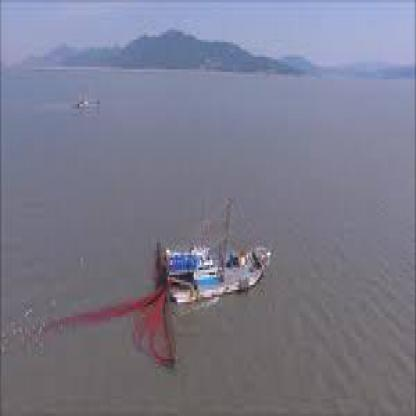fish-b: (146, 210, 276, 314)
